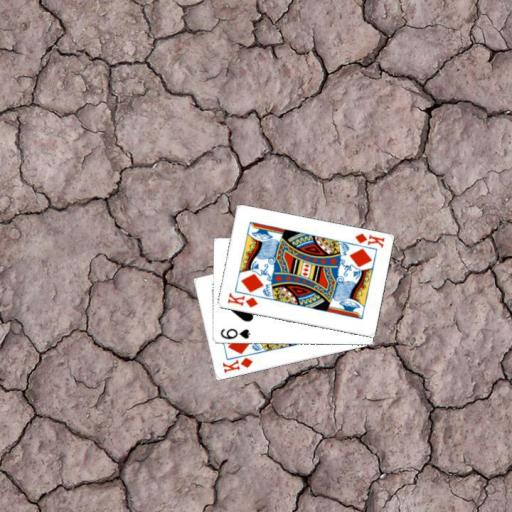6S: (218, 326, 252, 341)
KD: (219, 354, 255, 375), (224, 290, 259, 310), (351, 230, 386, 250)
